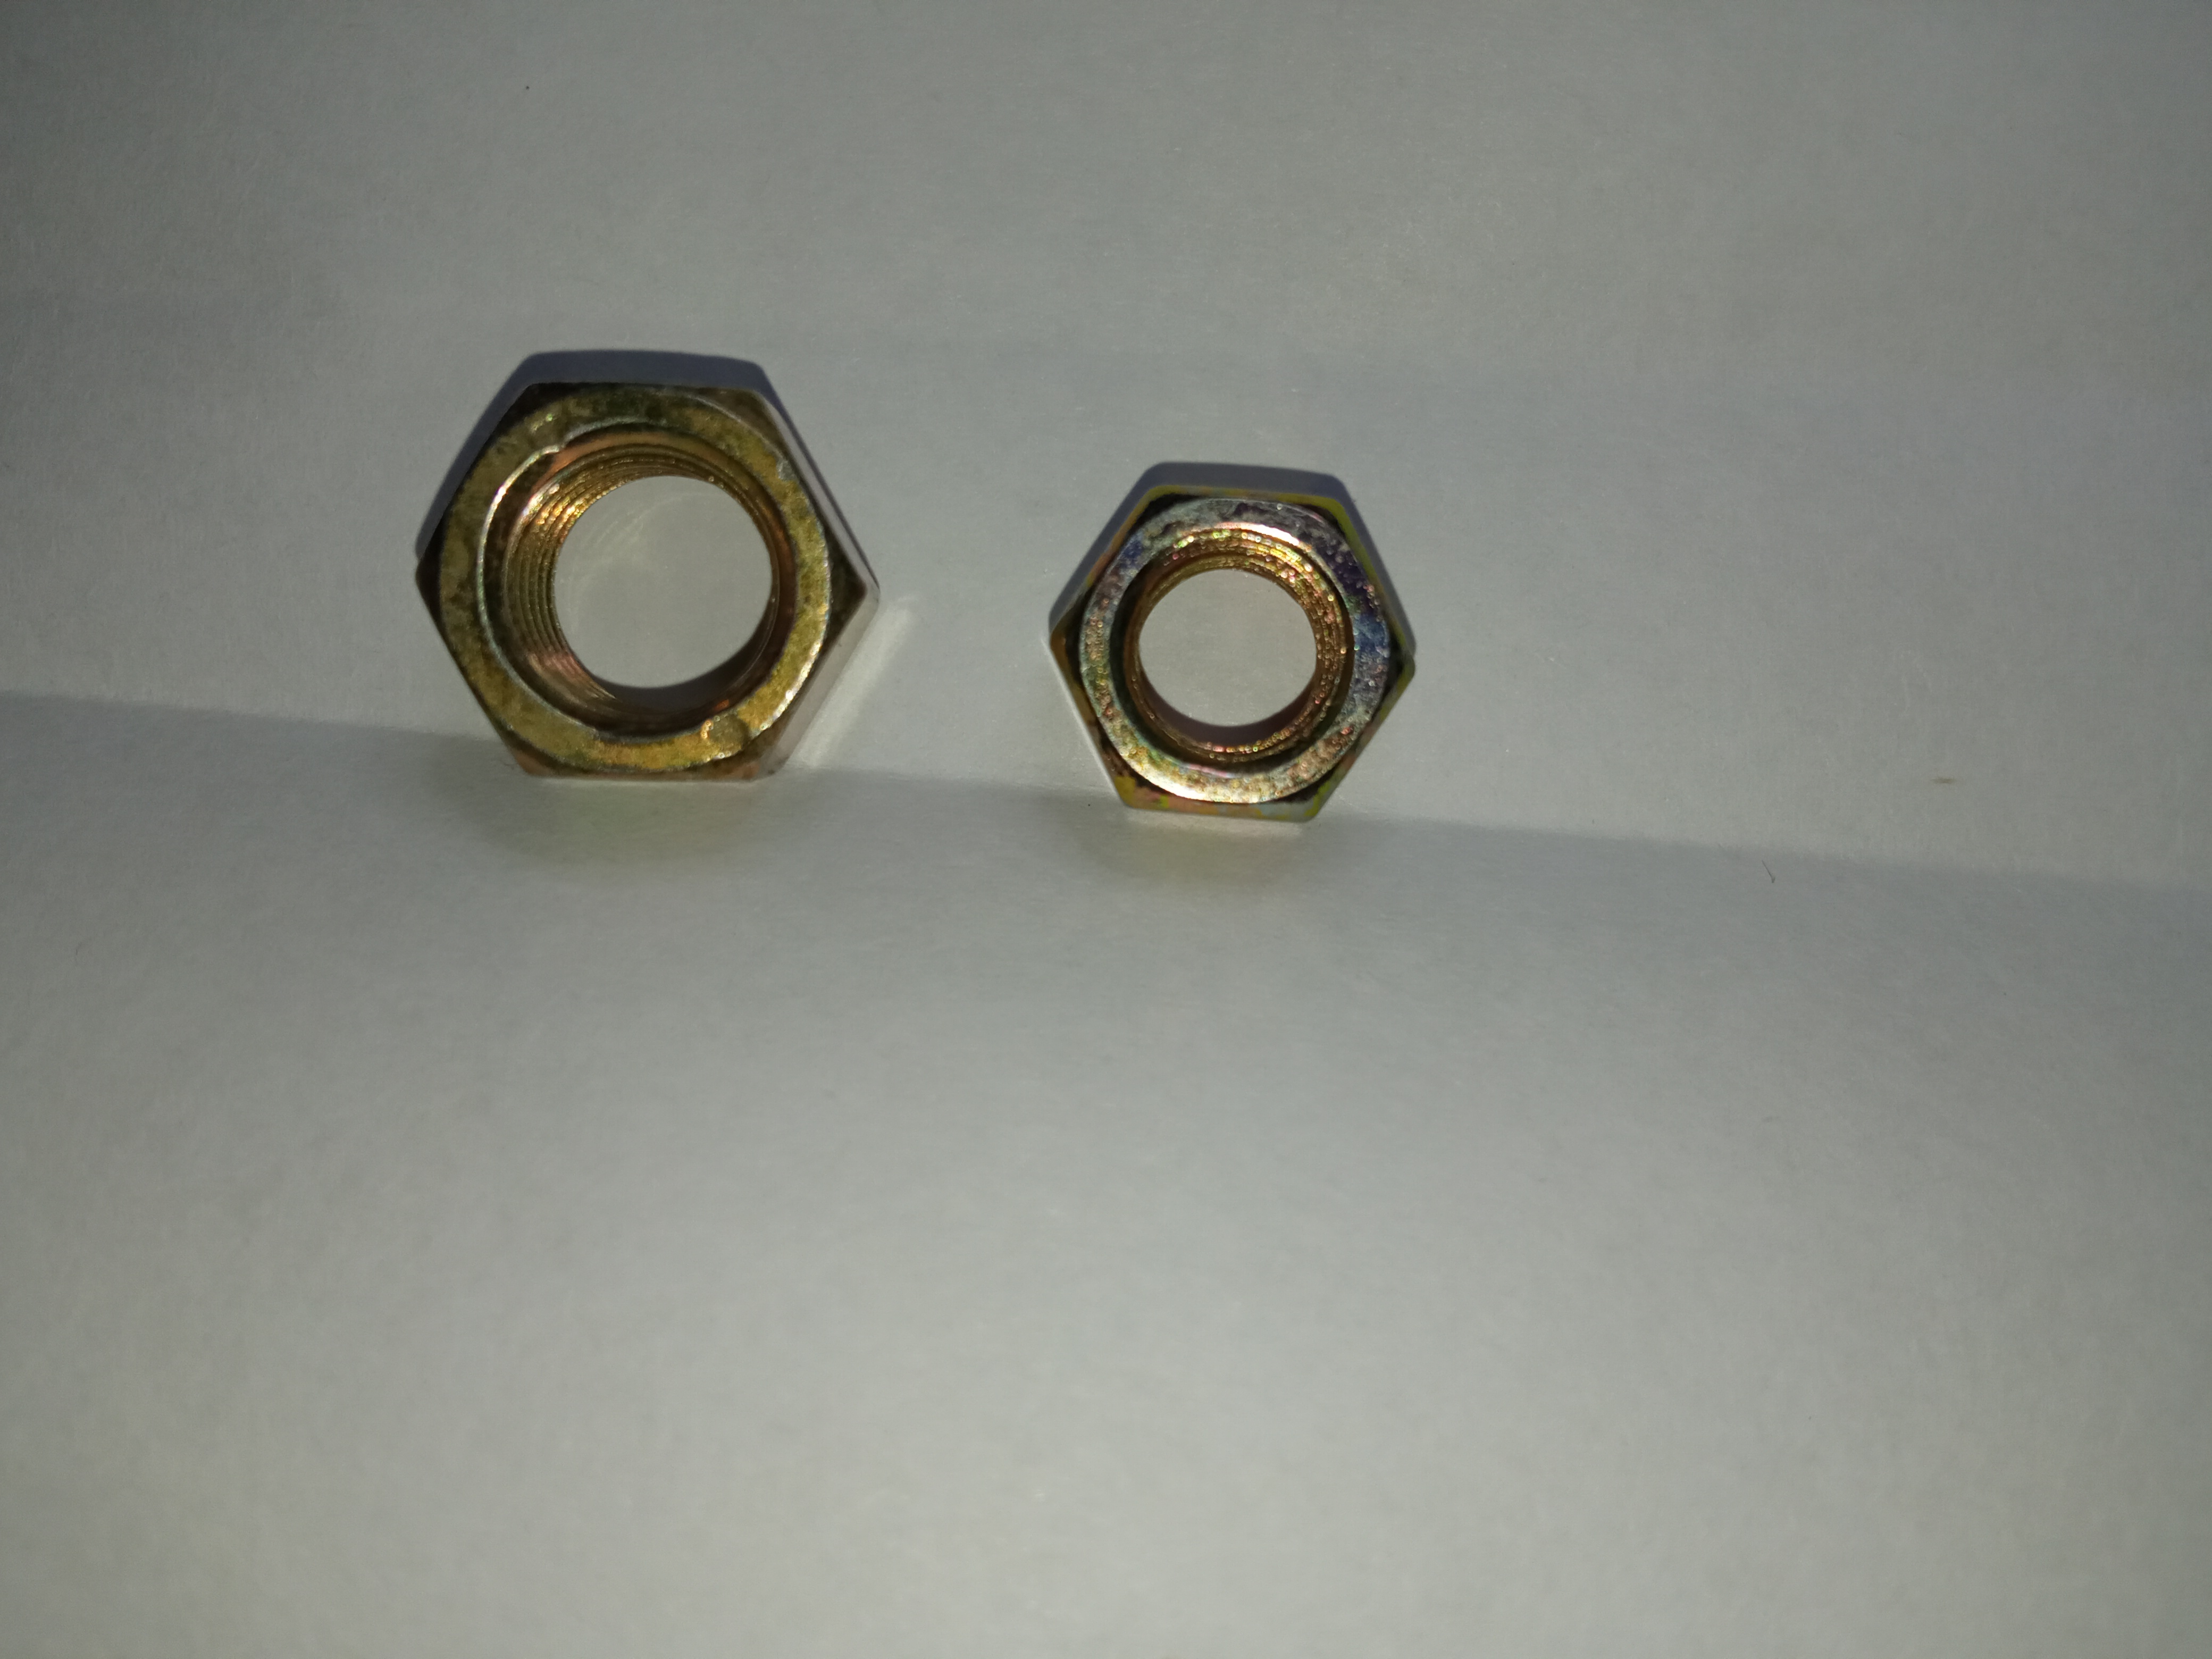m10: (420, 369, 862, 786)
m8: (1054, 488, 1397, 823)
